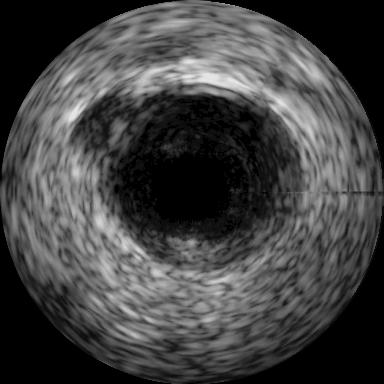Lumen: (157, 149, 230, 224)
